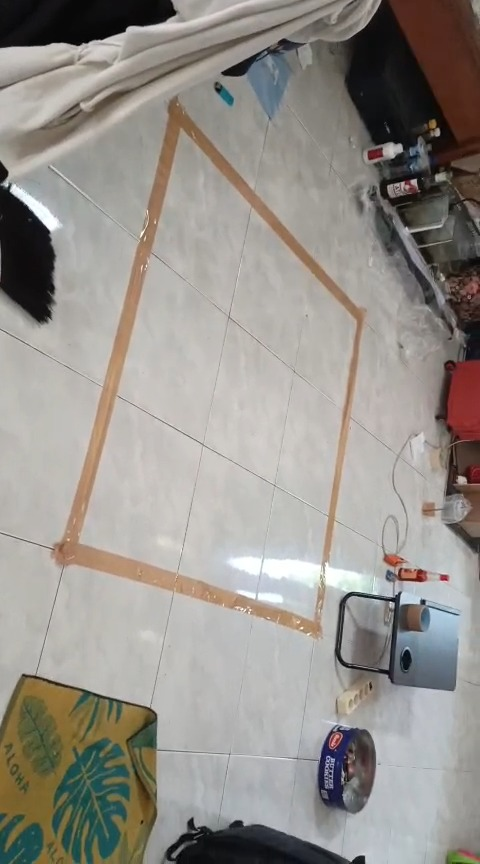floor marking: (53, 99, 365, 637)
